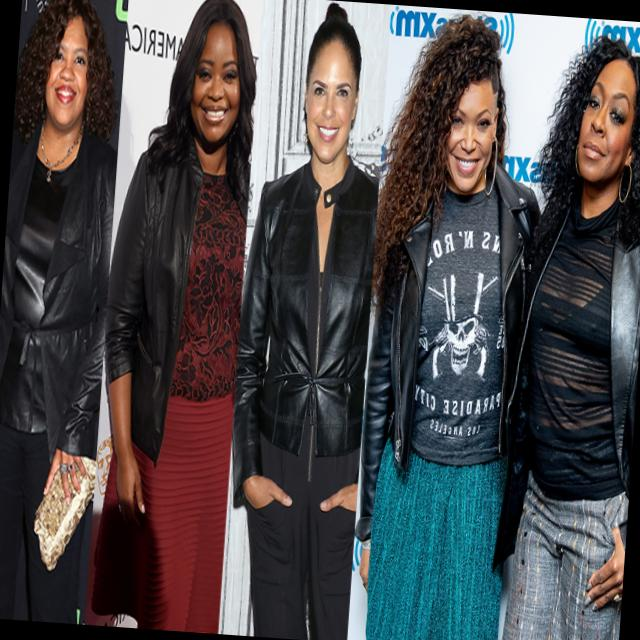Jacket: (347, 138, 548, 490), (96, 120, 274, 514), (227, 155, 393, 534), (486, 185, 640, 584), (0, 114, 130, 470)
